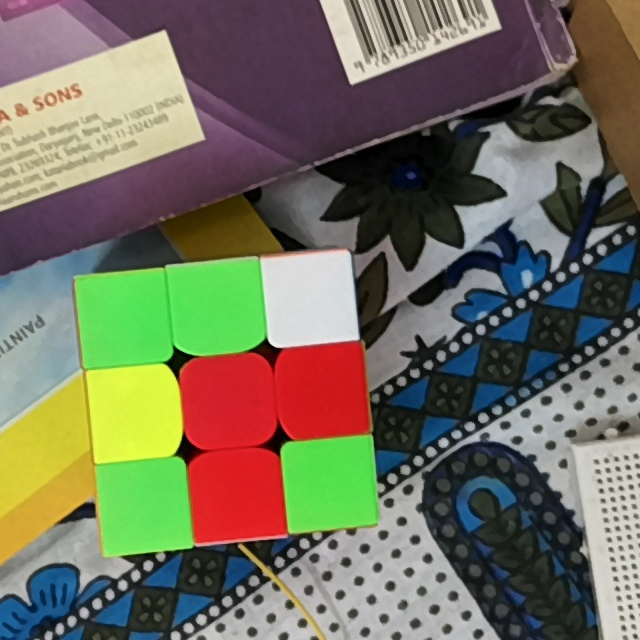tile: (268, 259, 348, 338), (85, 278, 162, 357), (95, 373, 172, 452), (177, 266, 255, 343), (104, 469, 181, 544), (292, 446, 370, 520), (284, 355, 363, 428), (200, 458, 276, 532), (191, 365, 264, 438)
